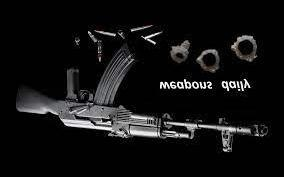larga: (15, 44, 269, 153)
